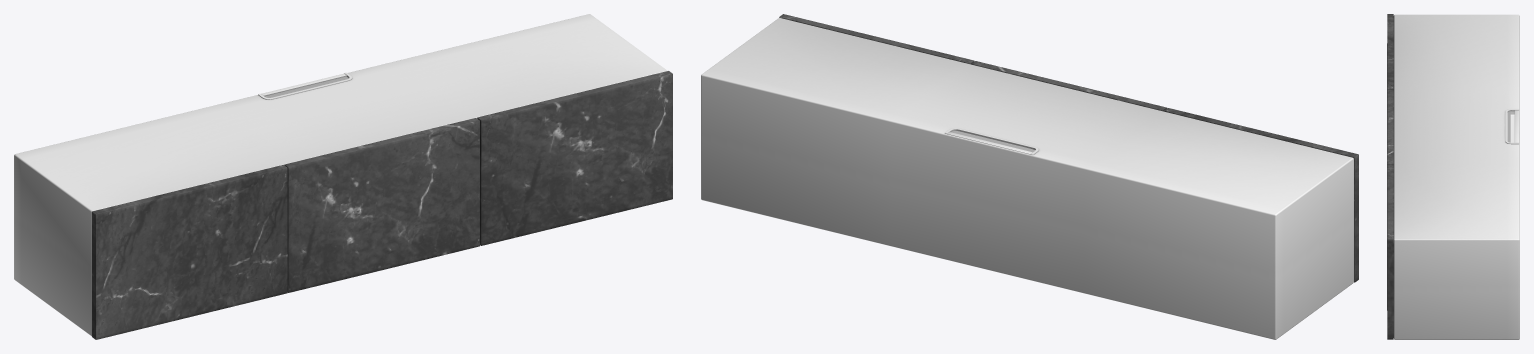
Rendered from Tv_shelf002_Bergsviken black.gltf.
The picture shows the model from 3 angles, left to right: view 1: azimuth 30°, elevation 25°; view 2: azimuth 150°, elevation 25°; view 3: azimuth 270°, elevation 25°; orthographic projection. The views are drawn at different scales.
Visible parts, largest first — view 1: Tv Shelf_002; view 2: Tv Shelf_002; view 3: Tv Shelf_002.
Boxes of the visible parts, x1,y1,x2,y2 form: Tv Shelf_002: [14, 14, 672, 339]; Tv Shelf_002: [701, 14, 1358, 339]; Tv Shelf_002: [1387, 14, 1519, 339].
Size of the model in its own units: 1.81 by 0.3792 by 0.4496.
Materials: 1 (1 with a texture image).
